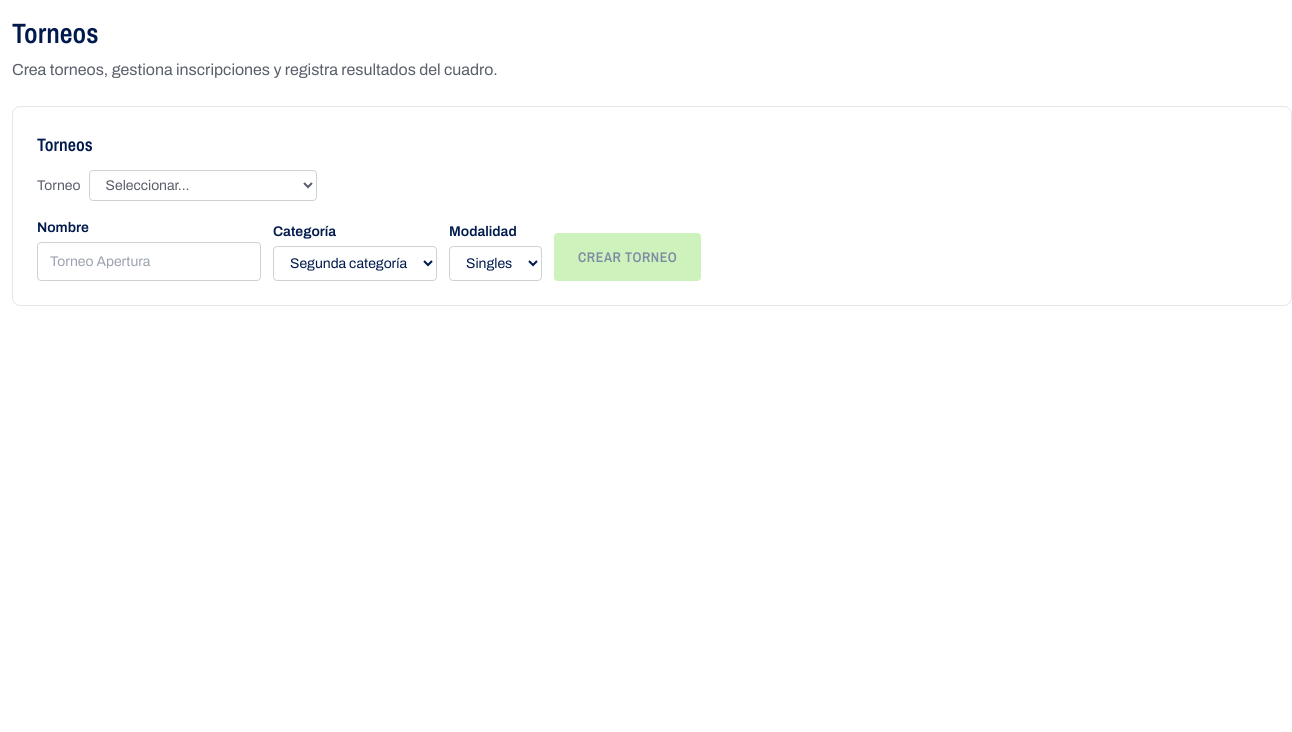
Test: TournamentsPage › selecting a DRAFT tournament shows its participants and the add-participant form
Select "Torneo Apertura (Inscripción)" in the dropdown labelled "Torneo": (202, 186) top-left (88, 170), bottom-right (316, 201)
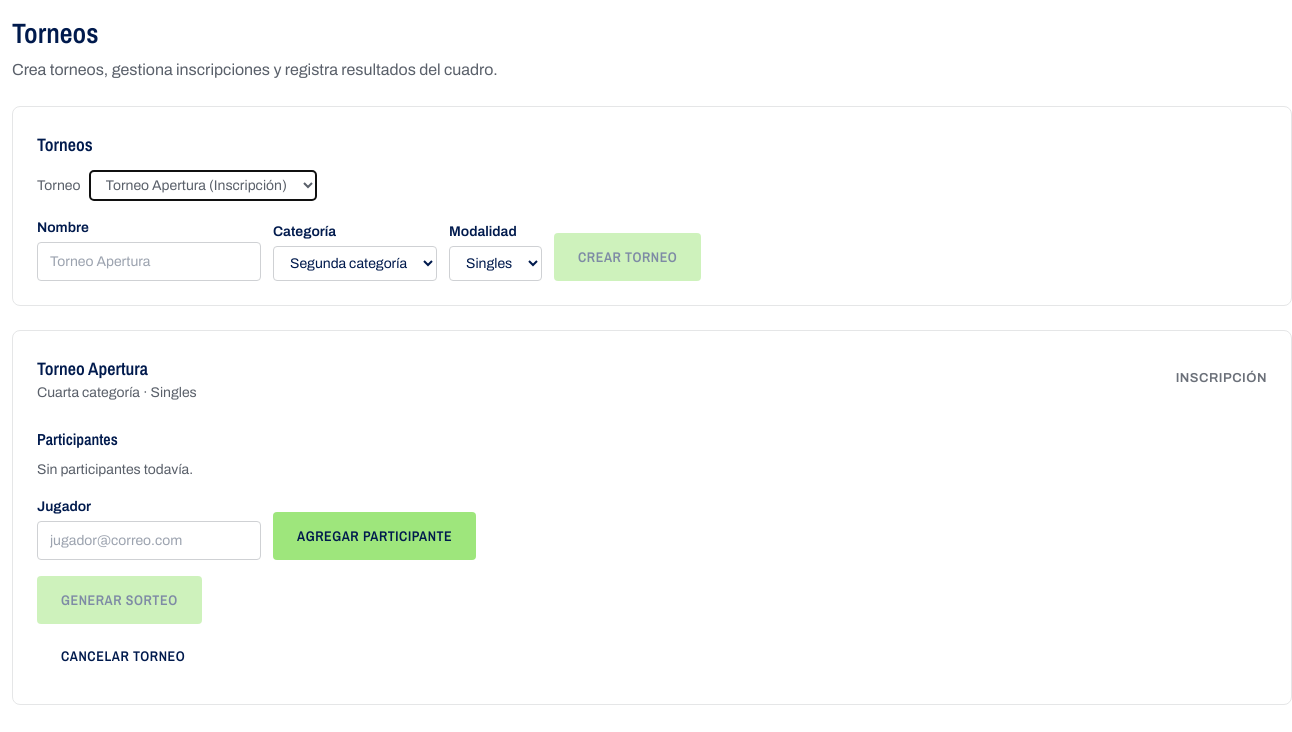
Expected: the text "Sin participantes todavía." is shown, top-left (37, 462), bottom-right (193, 477)
Expected: the field labelled "Jugador" is shown, top-left (37, 521), bottom-right (261, 560)
